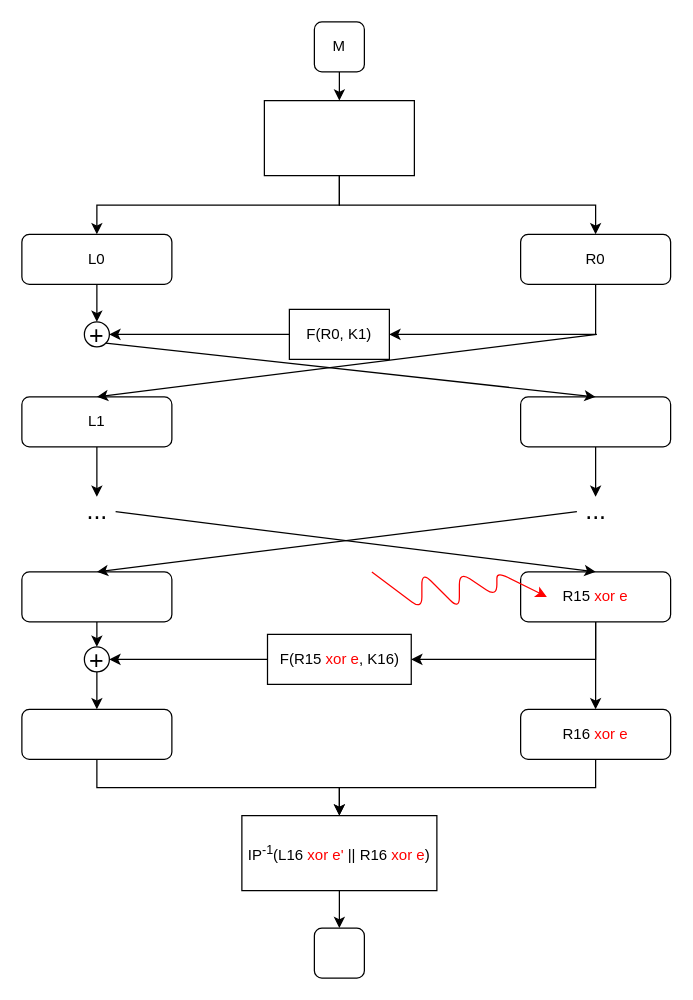
Some shapes in this 693 by 1000 pixel diagram are drawn without their labels. Each missing label, with the box of its shape:
C': (313, 927, 364, 978)
IP(M): (263, 99, 414, 176)
L15: (21, 571, 172, 622)
L16 xor e': (21, 708, 172, 759)
R1: (519, 396, 671, 447)
